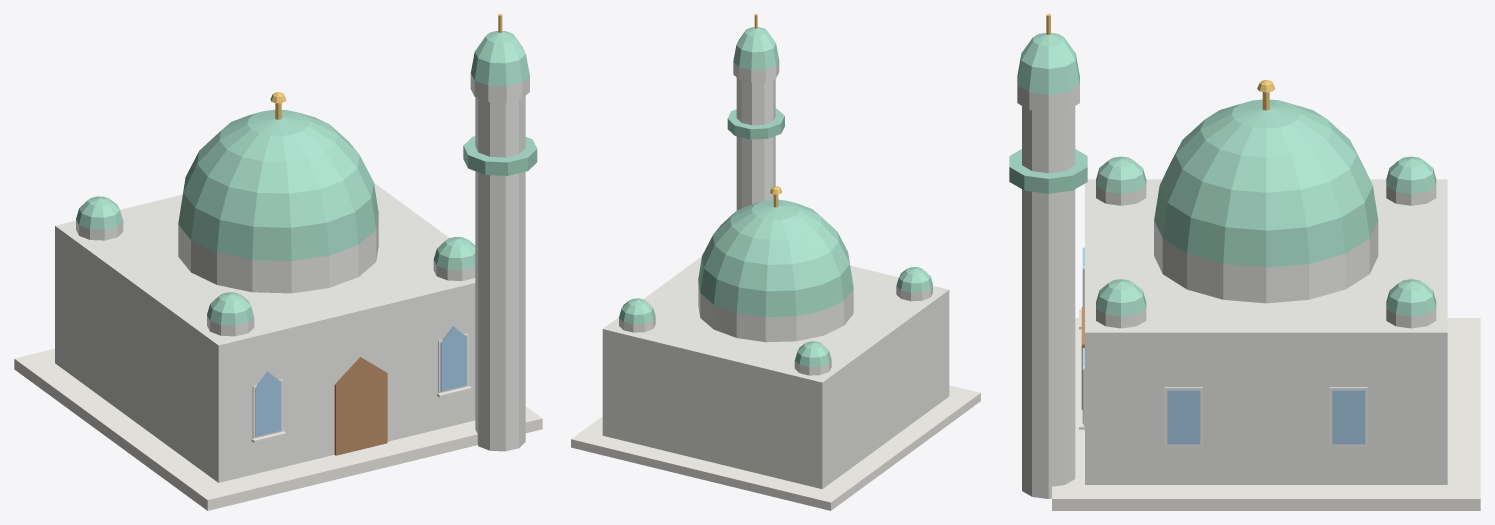
Rendered from mosque.glb.
3 views of the same model, side by side, from view 1: azimuth 30°, elevation 25°; view 2: azimuth 150°, elevation 25°; view 3: azimuth 270°, elevation 25° (orthographic). The views are drawn at different scales.
Visible parts, largest first — view 1: mosque; view 2: mosque; view 3: mosque.
Part boxes in pixels (bbox=[...]): mosque: bbox=[14, 14, 542, 510]; mosque: bbox=[571, 14, 980, 510]; mosque: bbox=[1009, 14, 1480, 510].
Size of the model in its own units: 13 by 15.8 by 14.29.
